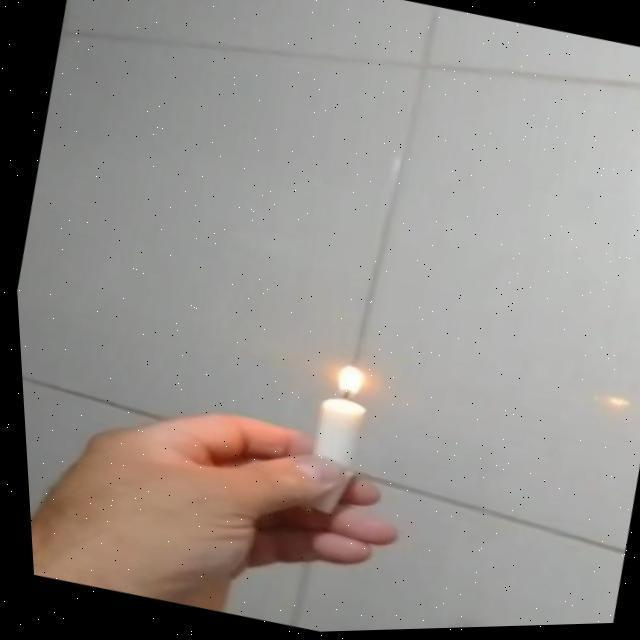fire: (318, 359, 369, 405)
